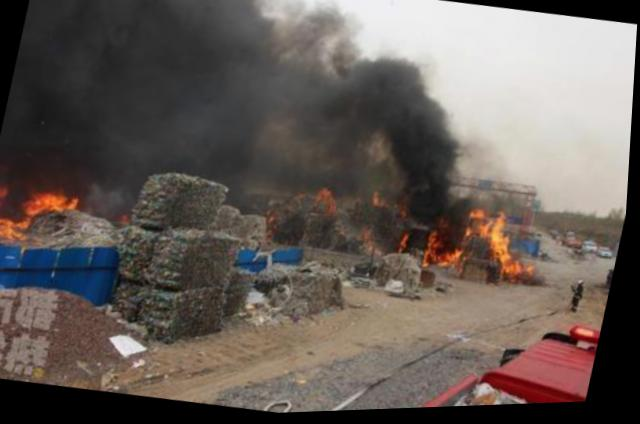fire: (31, 189, 82, 217), (0, 207, 33, 244), (429, 235, 447, 267), (509, 265, 539, 281), (496, 239, 515, 262), (0, 182, 12, 214), (444, 252, 464, 271), (497, 219, 513, 241), (484, 226, 496, 243), (477, 210, 493, 220)
